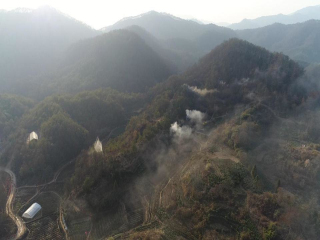smoke: (169, 108, 209, 143), (179, 81, 221, 96)
